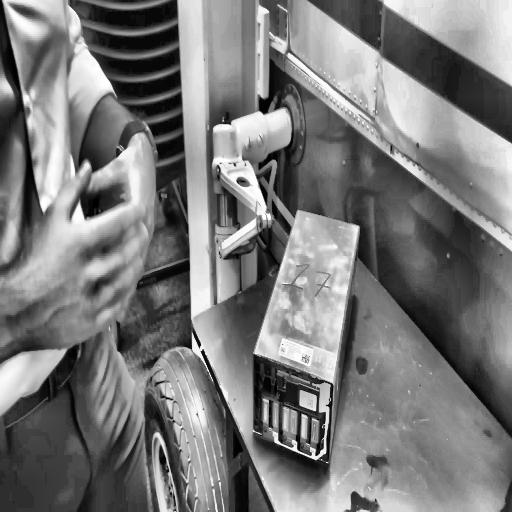battery_module: (252, 210, 361, 464)
